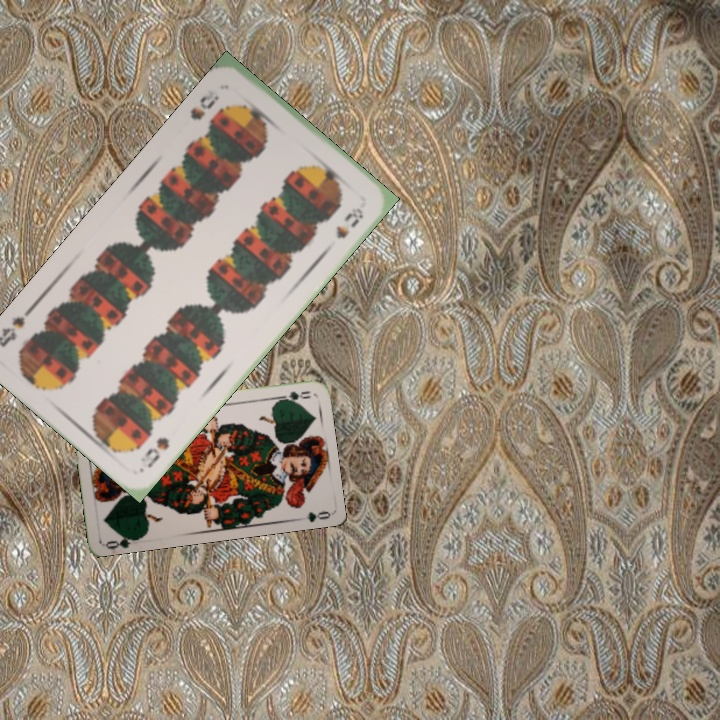GO: (102, 530, 143, 551), (273, 387, 313, 405)
S8: (186, 85, 222, 123), (140, 433, 172, 471)
